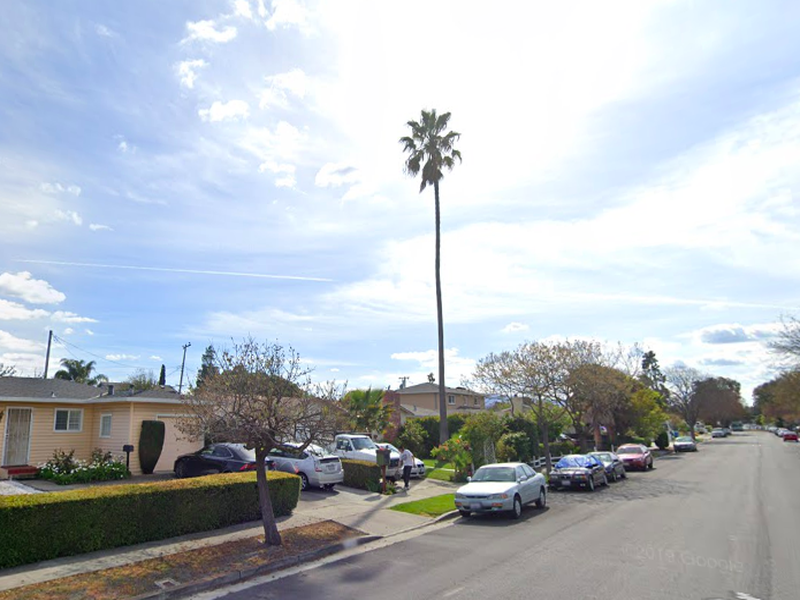tree: (396, 106, 465, 468)
